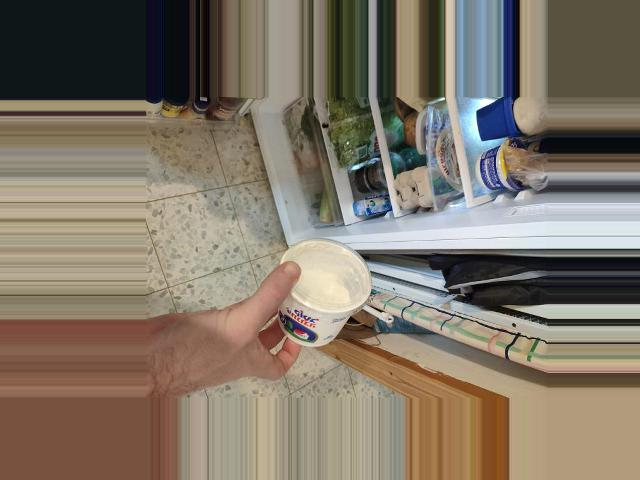cotage: (263, 240, 374, 357)
